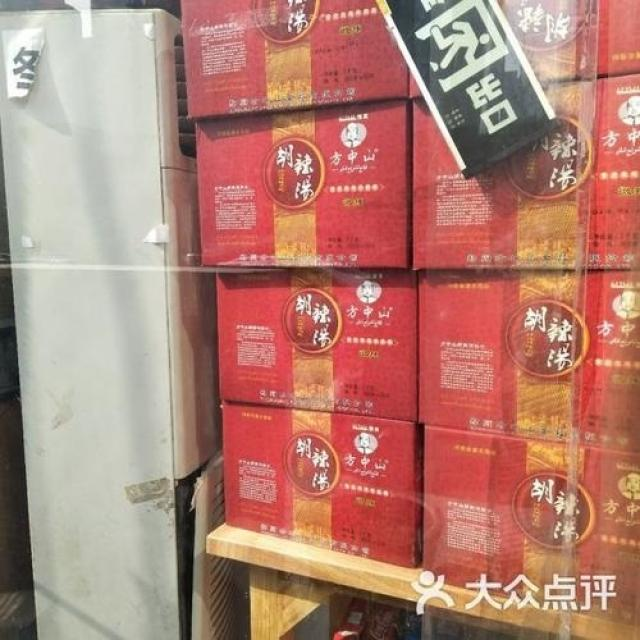box: (410, 73, 639, 267), (422, 424, 639, 625), (417, 269, 639, 452), (193, 99, 410, 269), (220, 403, 424, 569), (216, 270, 418, 422), (180, 2, 411, 121), (497, 1, 639, 82)
